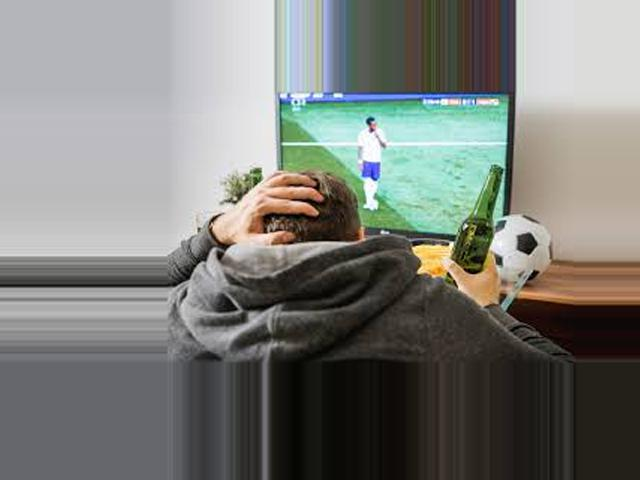beer: (449, 165, 503, 291)
